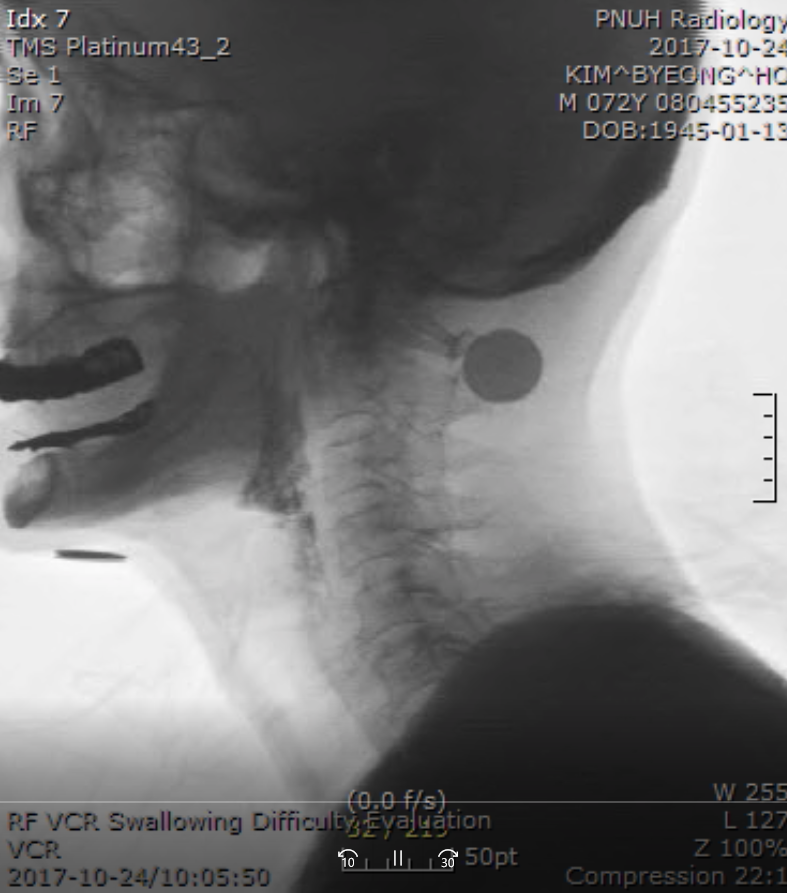dros: (287, 517, 341, 600)
food: (222, 412, 346, 628)
uros: (237, 445, 296, 525)
